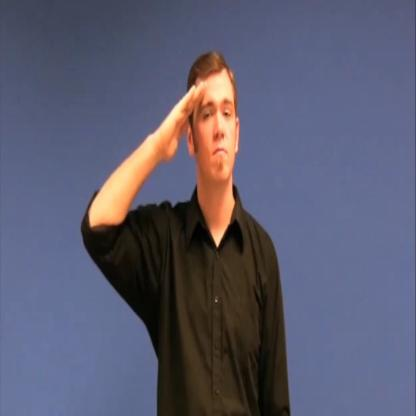Hello: (142, 24, 258, 197)
